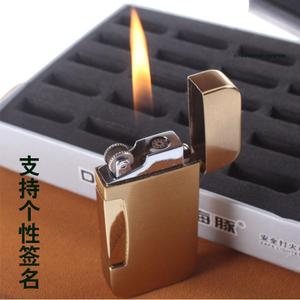fire: (121, 10, 166, 145)
